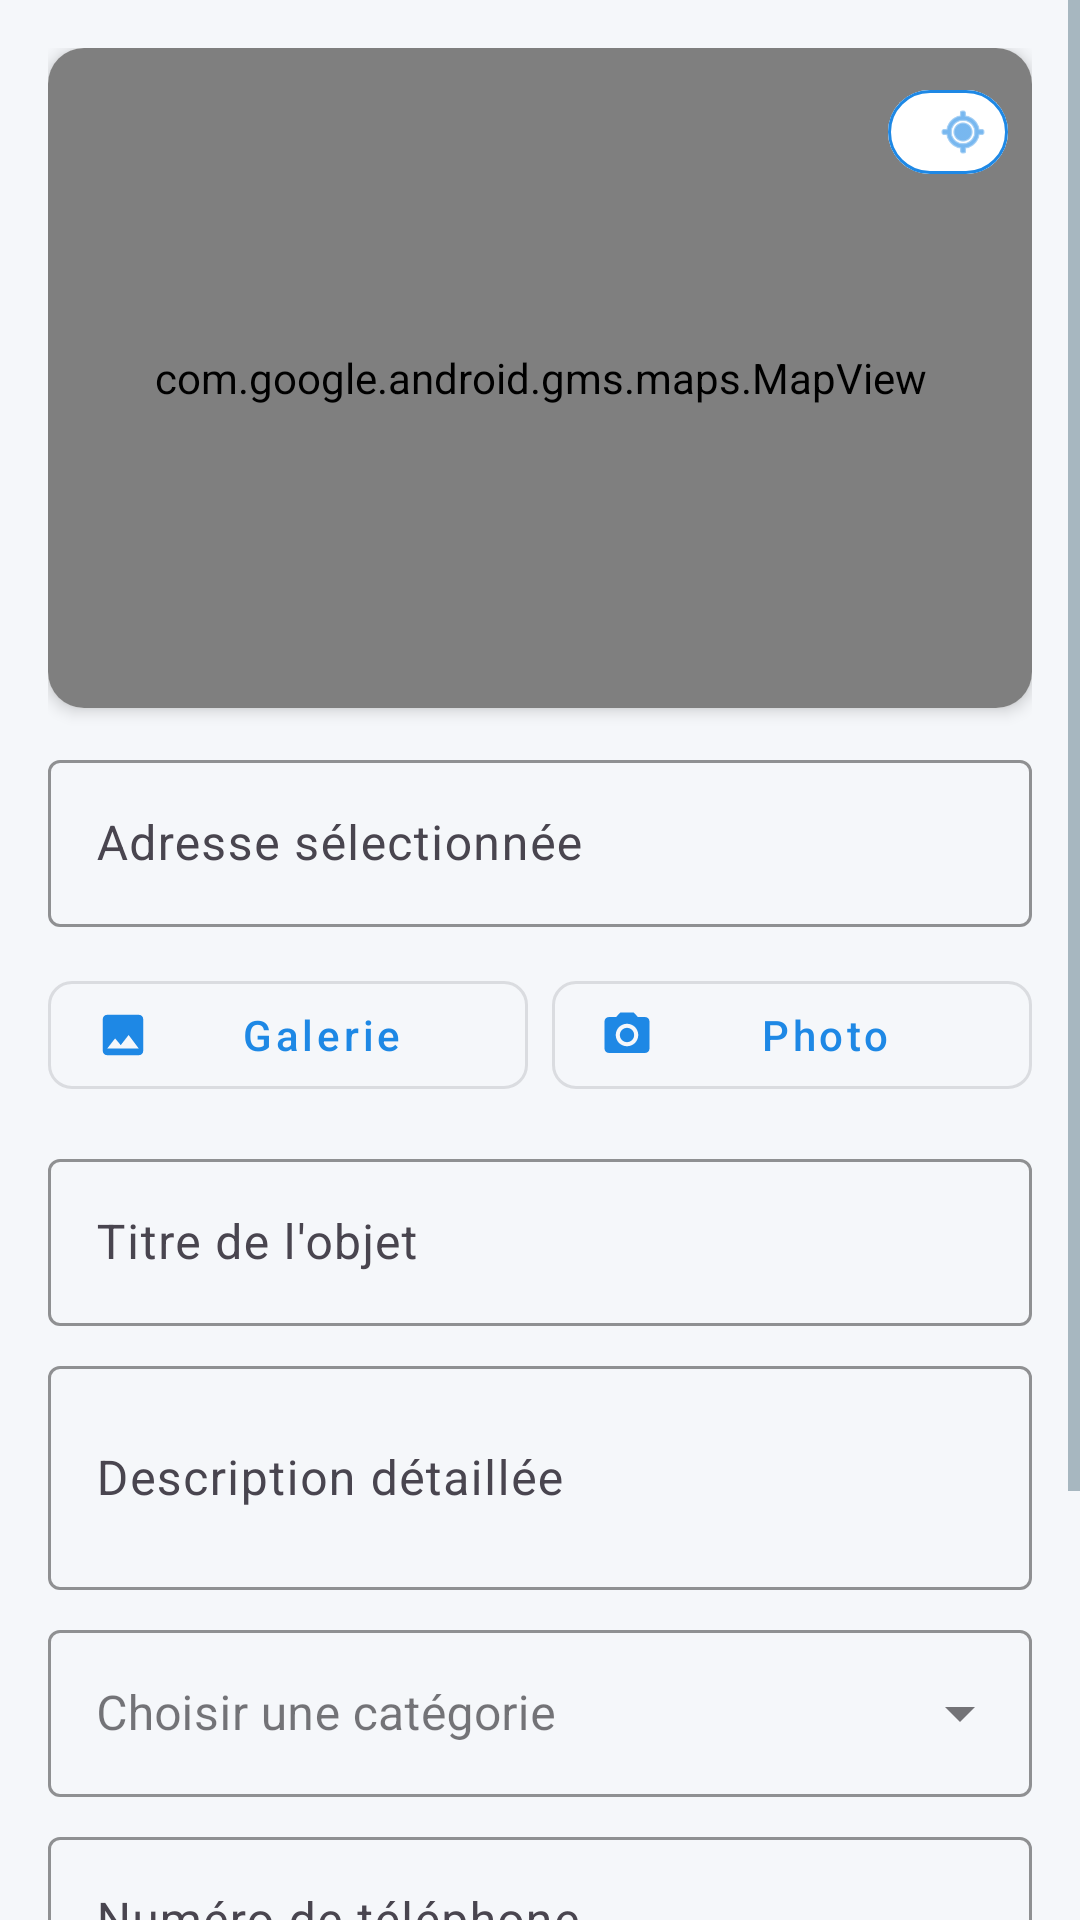

Screen size 1080 × 1920. Icon name, then its center in pixels as (x,y):
mylocation: (948,132)
